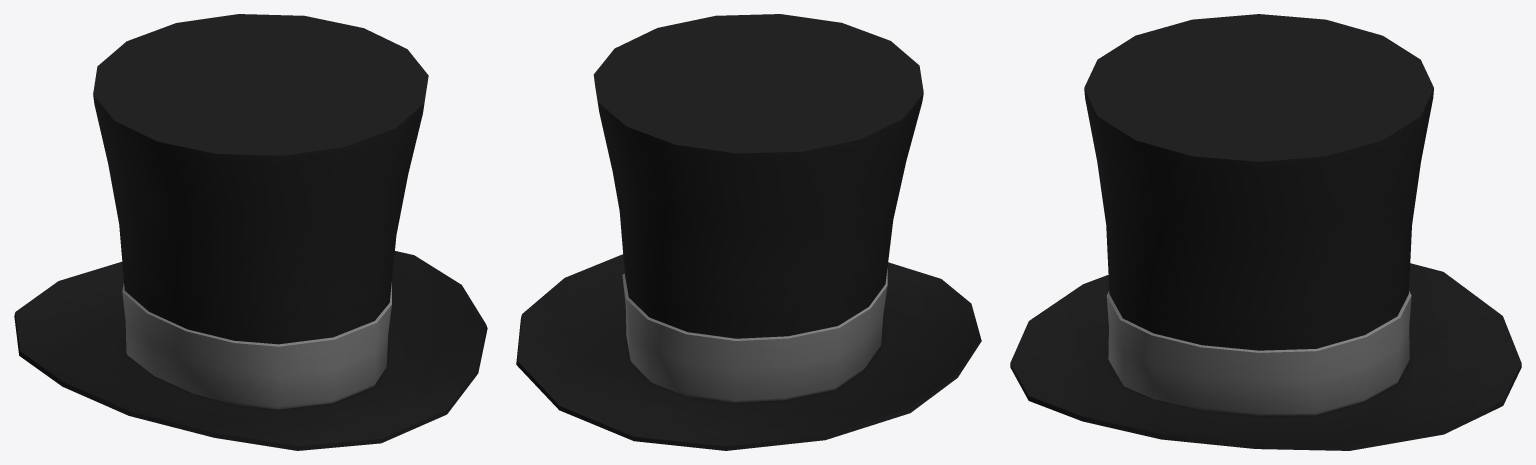
The model's file is MagicianHat.FBX.
3 renders of one model, left to right at view 1: azimuth 30°, elevation 25°; view 2: azimuth 150°, elevation 25°; view 3: azimuth 270°, elevation 25°, orthographic. The views are drawn at different scales.
Visible parts, largest first — view 1: MagicianHat; view 2: MagicianHat; view 3: MagicianHat.
Boxes of the visible parts, bbox=[...] form: MagicianHat: bbox=[14, 14, 487, 450]; MagicianHat: bbox=[516, 14, 981, 450]; MagicianHat: bbox=[1010, 14, 1521, 450].
Bounding box in the file's own units: 59.44 × 38.31 × 63.5.
Materials: 1 (1 with a texture image).
